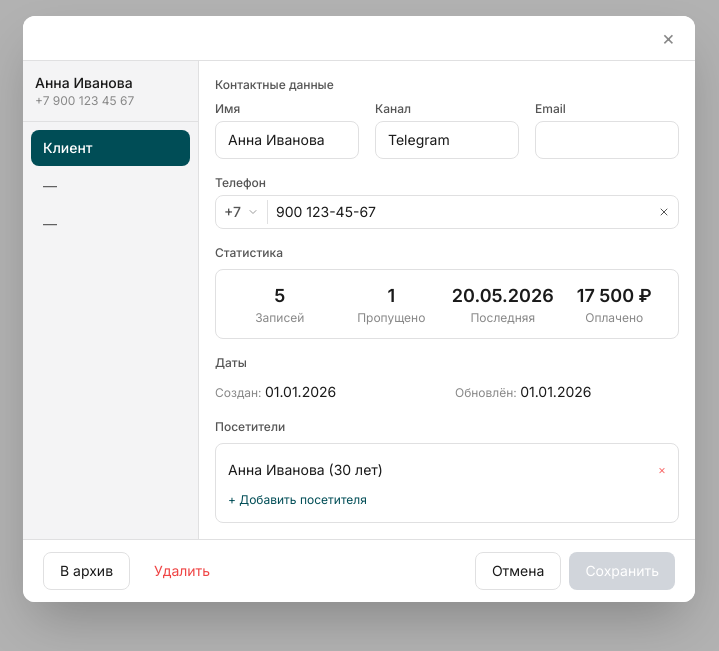
ClientCardModal ↔ ClientInfoTab integration (real components) › save button enables after email change
The width and height of the screenshot is (719, 651).
Check: the button "Сохранить" is disabled, box top-left (569, 552), bottom-right (675, 590)
Type "new@test.com" into the field labelled "Email" at (607, 140), box top-left (535, 121), bottom-right (679, 159)
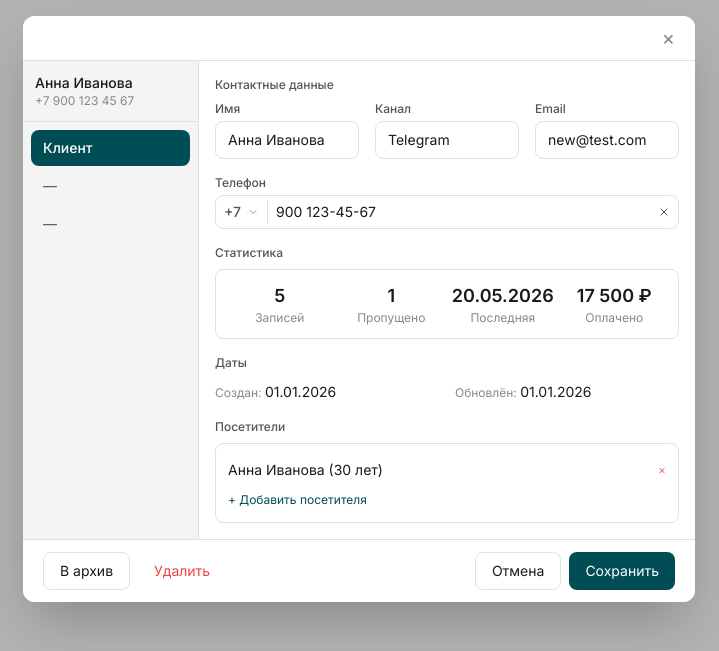
Check: the button "Сохранить" is enabled, box top-left (569, 552), bottom-right (675, 590)
